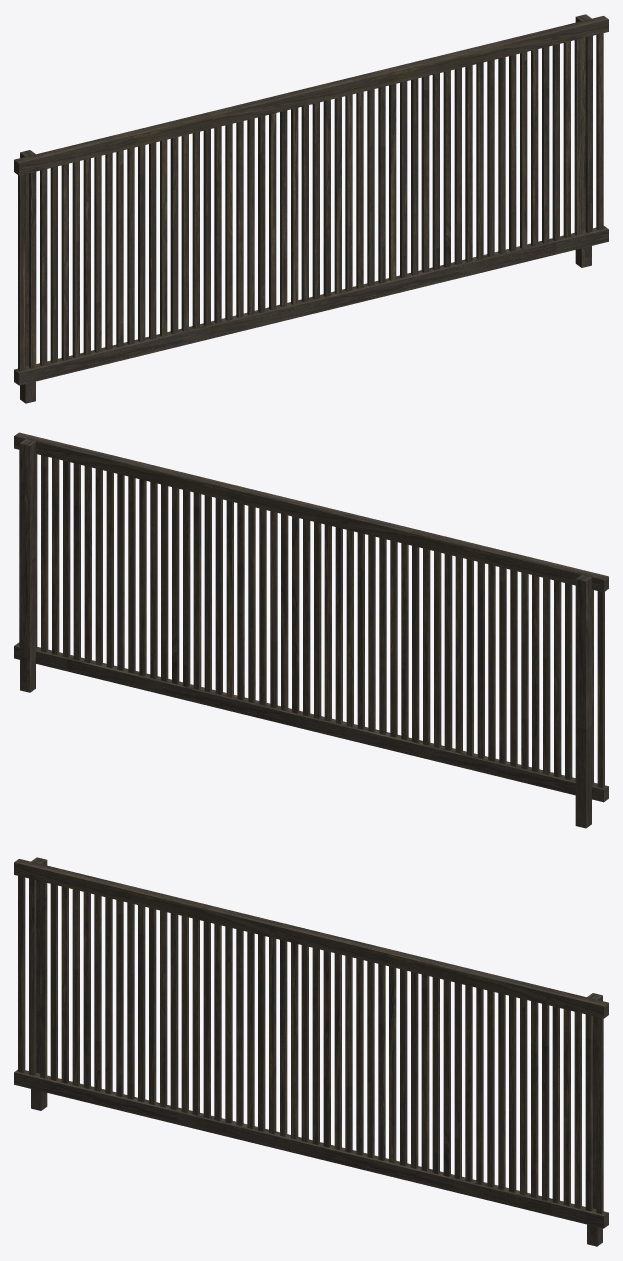
File: EAFtatehosogoushi_w1998-h720_blackebony.fbx
The picture shows the model from 3 angles, top to bottom: view 1: azimuth 30°, elevation 25°; view 2: azimuth 150°, elevation 25°; view 3: azimuth 330°, elevation 25°; orthographic projection.
Parts seen in each view (by area): view 1: EAFtatehosogoushi_w1998-h720_blackebony; view 2: EAFtatehosogoushi_w1998-h720_blackebony; view 3: EAFtatehosogoushi_w1998-h720_blackebony.
Boxes of the visible parts, left/top/right/bottom form: EAFtatehosogoushi_w1998-h720_blackebony: left=14, top=14, right=608, bottom=403; EAFtatehosogoushi_w1998-h720_blackebony: left=14, top=432, right=608, bottom=828; EAFtatehosogoushi_w1998-h720_blackebony: left=14, top=857, right=608, bottom=1246.
Size of the model in its own units: 200 by 80 by 6.5.
Materials: 1 (1 with a texture image).
